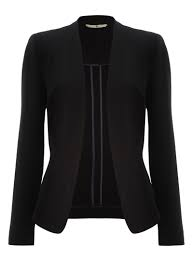F_W_suit jacket: (4, 9, 193, 253)
